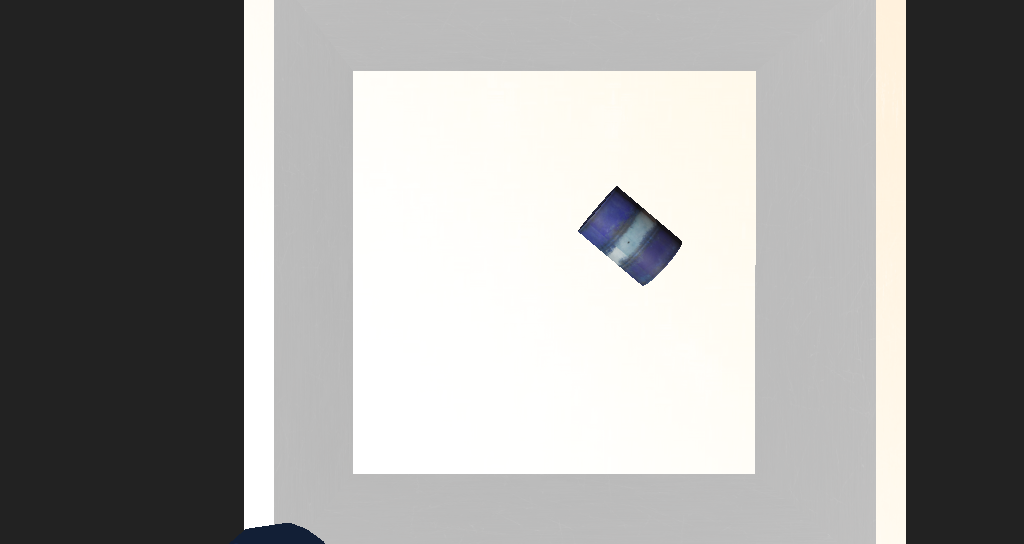cone: (519, 220, 600, 277)
cylinder: (219, 14, 374, 138)
sphere: (263, 384, 344, 446)
